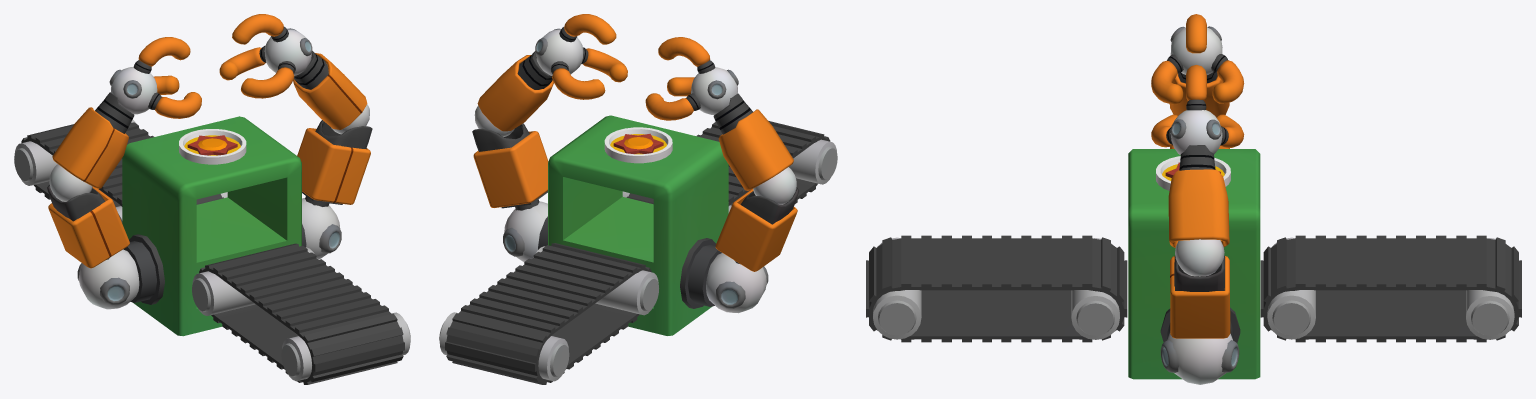
The model's file is MSXBL_lion.fbx.
The picture shows the model from 3 angles, left to right: view 1: azimuth 30°, elevation 25°; view 2: azimuth 150°, elevation 25°; view 3: azimuth 270°, elevation 25°; orthographic projection. The views are drawn at different scales.
Visible parts, largest first — view 1: base1, polySurface1532, canh_tay3 (×2), khuyu_tay5 (×2), canh_tay2 (×2), Bantay1 (×2), Ngontay6 (×2), Ngontay4 (×2), Logo, polySurface1533, De1, polySurface1529 (+4 smaller); view 2: base1, polySurface1533, canh_tay3 (×2), khuyu_tay5 (×2), canh_tay2 (×2), Bantay1 (×2), Ngontay6 (×2), Ngontay5 (×2), polySurface1532, Logo, De1, polySurface1530 (+4 smaller); view 3: polySurface1532, polySurface1533, base1, khuyu_tay5 (×2), canh_tay3, Bantay1 (×2), canh_tay2, polySurface1529, polySurface1528, polySurface1530, polySurface1531, Ngontay5 (×2) (+4 smaller).
Boxes of the visible parts, <box> form: base1: <box>122,116,301,336</box>; polySurface1532: <box>199,243,404,384</box>; canh_tay3 (×2): <box>47,120,372,268</box>; khuyu_tay5 (×2): <box>52,51,367,188</box>; canh_tay2 (×2): <box>77,191,342,309</box>; Bantay1 (×2): <box>109,28,312,114</box>; Ngontay6 (×2): <box>133,14,288,73</box>; Ngontay4 (×2): <box>148,61,295,118</box>; Logo: <box>179,129,246,164</box>; polySurface1533: <box>21,122,223,206</box>; De1: <box>123,234,164,304</box>; polySurface1529: <box>192,247,317,315</box>; base1: <box>548,115,728,335</box>; polySurface1533: <box>445,243,651,384</box>; canh_tay3 (×2): <box>472,123,798,271</box>; khuyu_tay5 (×2): <box>477,51,793,190</box>; canh_tay2 (×2): <box>501,191,768,313</box>; Bantay1 (×2): <box>535,28,738,114</box>; Ngontay6 (×2): <box>559,14,715,73</box>; Ngontay5 (×2): <box>551,61,700,120</box>; polySurface1532: <box>626,121,830,205</box>; Logo: <box>604,127,672,163</box>; De1: <box>680,238,721,308</box>; polySurface1530: <box>532,246,658,315</box>; polySurface1532: <box>866,235,1127,342</box>; polySurface1533: <box>1260,235,1521,342</box>; base1: <box>1128,149,1260,379</box>; khuyu_tay5 (×2): <box>1168,72,1229,247</box>; canh_tay3: <box>1170,255,1230,338</box>; Bantay1 (×2): <box>1170,26,1222,155</box>; canh_tay2: <box>1160,333,1239,384</box>; polySurface1529: <box>1071,238,1119,339</box>; polySurface1528: <box>873,237,921,339</box>; polySurface1530: <box>1267,237,1315,339</box>; polySurface1531: <box>1466,238,1514,339</box>; Ngontay5 (×2): <box>1211,54,1244,147</box>.
Bounding box in the file's own units: 1056 × 873 × 1715.
